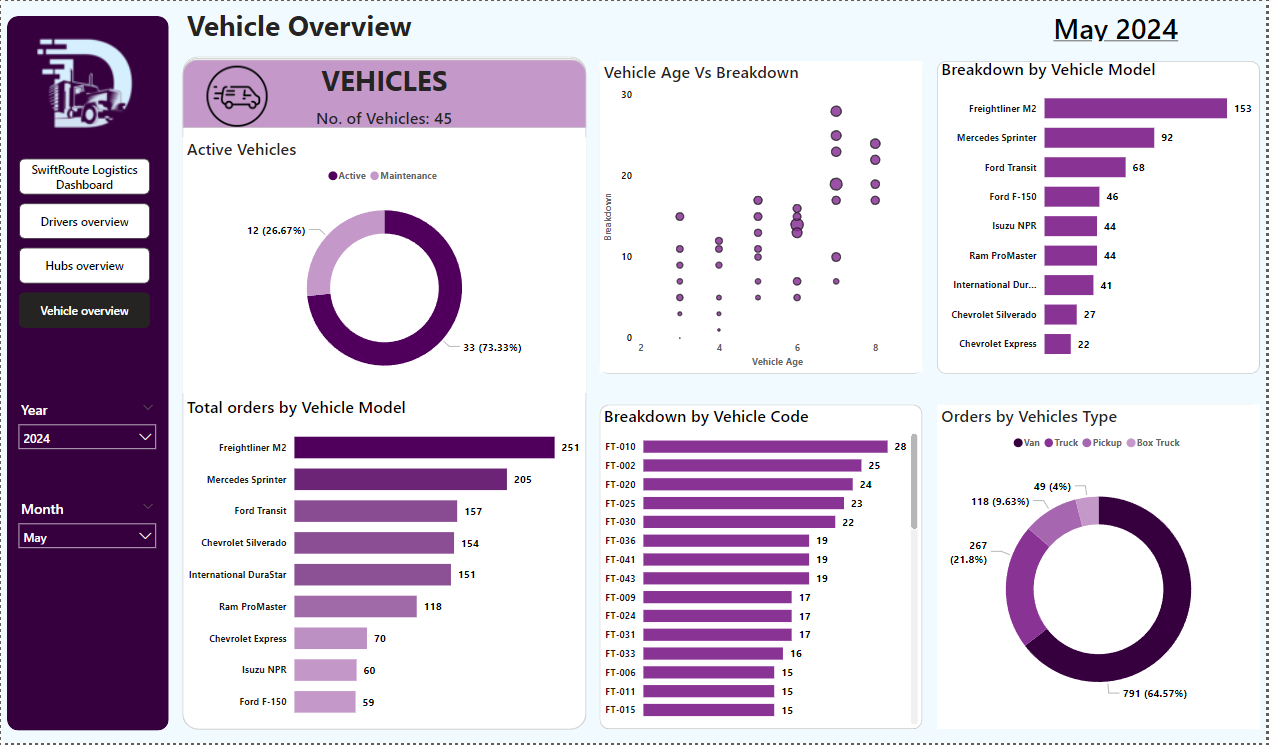

Layout of this report page (visuals, bound fields, positions):
{"tool":"powerbi","page":{"name":"Vehicle overview","canvas":[1450,850],"ordinal":3},"visuals":[{"type":"shape","box":[6.2,16.7,185.4,818.8],"z":0},{"type":"textbox","box":[207.8,0,517.6,64.7],"z":1000},{"type":"slicer","fields":{"Values":["Date Table.Year"]},"box":[7.5,448.9,183.9,73.2],"z":2000},{"type":"slicer","fields":{"Values":["Date Table.Month"]},"box":[7.5,561.4,183.9,73.2],"z":3000},{"type":"image","box":[1.9,32.1,190.6,132.1],"z":4000},{"type":"cardVisual","fields":{"Data":["Orders.Year Month Title"]},"box":[1137.7,11.3,279.2,39.6],"z":5000},{"type":"shape","box":[684.9,67.9,369.8,358.5],"z":6000},{"type":"shape","box":[207.1,64.3,462.5,771.4],"z":7000},{"type":"shape","box":[207.1,66.1,462.5,769.6],"z":8000},{"type":"shape","box":[207.1,67.9,462.5,78.6],"z":9000},{"type":"textbox","box":[207.1,64.3,462.5,78.6],"z":10000},{"type":"cardVisual","fields":{"Data":["Orders.No. of Vehicles"]},"box":[207.1,114.3,462.5,39.3],"z":11000},{"type":"donutChart","title":"Active Vehicles","fields":{"Category":["Vehicles.Vehicle Status"],"Y":["CountNonNull(Vehicles.Vehicle ID)"]},"box":[207.1,157.1,462.5,292.9],"z":12000},{"type":"barChart","fields":{"Category":["Vehicles.Vehicle Model"],"Y":["Orders.Total orders"]},"box":[207.1,451.8,462.5,383.9],"z":13000},{"type":"shape","box":[1071.7,462.3,369.8,371.7],"z":14000},{"type":"shape","box":[684.9,462.3,369.8,371.7],"z":15000},{"type":"shape","box":[1071.7,67.9,369.8,358.5],"z":16000},{"type":"scatterChart","title":" Vehicle Age Vs Breakdown","fields":{"X":["Vehicles.Vehicle Age"],"Y":["Vehicles.Breakdown"],"Size":["Sum(Vehicles.Breakdown)1"]},"box":[684.9,67.9,369.8,356.6],"z":17000},{"type":"barChart","title":"Breakdown by Vehicle Code","fields":{"Category":["Vehicles.Vehicle Code"],"Y":["Sum(Vehicles.Breakdown)"]},"box":[684.9,462.3,369.8,371.7],"z":18000},{"type":"barChart","title":"Breakdown by Vehicle Model","fields":{"Y":["Sum(Vehicles.Breakdown)"],"Category":["Vehicles.Vehicle Model"]},"box":[1071.7,66,369.8,358.5],"z":19000},{"type":"donutChart","title":"Orders by Vehicles Type","fields":{"Category":["Orders.Vehicle Type"],"Y":["Orders.Total orders"]},"box":[1071.7,462.3,369.8,371.7],"z":20000},{"type":"pageNavigator","box":[20.8,181.1,150.9,194.3],"z":21000},{"type":"image","box":[235.8,67.9,69.8,81.1],"z":21001}]}

Visuals, with their boxes on the page's 1450x850 design canvas (x1, y1, x2, y2). These are canvas units, not pixel positions in the 1272x745 screenshot, which may show the page scaled, cropped or inside an application window:
shape: 6/17/192/836
textbox: 208/0/725/65
slicer - Date Table.Year: 8/449/191/522
slicer - Date Table.Month: 8/561/191/635
image: 2/32/192/164
cardVisual - Orders.Year Month Title: 1138/11/1417/51
shape: 685/68/1055/426
shape: 207/64/670/836
shape: 207/66/670/836
shape: 207/68/670/146
textbox: 207/64/670/143
cardVisual - Orders.No. of Vehicles: 207/114/670/154
"Active Vehicles" donutChart: 207/157/670/450
barChart - Vehicles.Vehicle Model x Orders.Total orders: 207/452/670/836
shape: 1072/462/1442/834
shape: 685/462/1055/834
shape: 1072/68/1442/426
" Vehicle Age Vs Breakdown" scatterChart: 685/68/1055/424
"Breakdown by Vehicle Code" barChart: 685/462/1055/834
"Breakdown by Vehicle Model" barChart: 1072/66/1442/424
"Orders by Vehicles Type" donutChart: 1072/462/1442/834
pageNavigator: 21/181/172/375
image: 236/68/306/149
